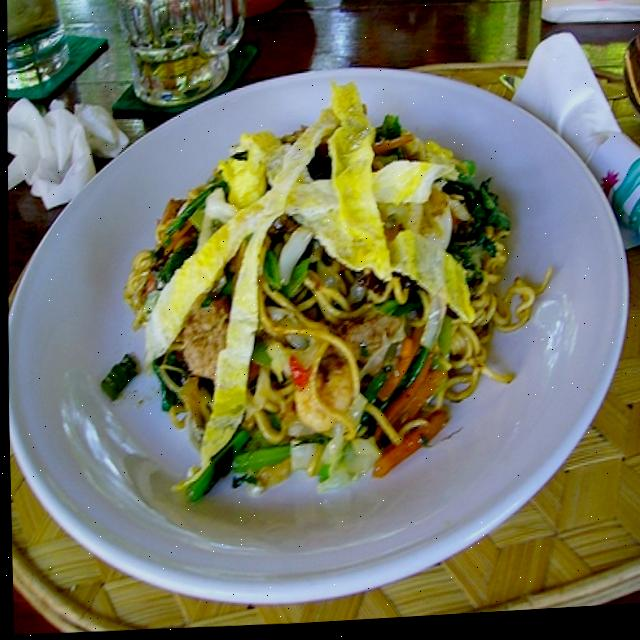面条主食: (14, 43, 637, 615)
